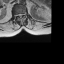CCS_normal: (19, 11, 21, 19)
LFS_stenosis: (23, 11, 24, 16)
LLS_stenosis: (21, 11, 23, 17)
RFS_normal: (16, 12, 17, 17)
RLS_normal: (17, 12, 19, 17)
